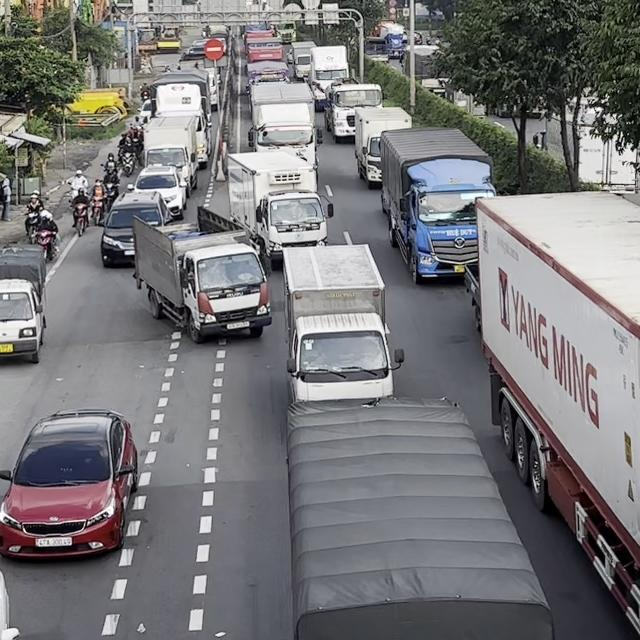car: (0, 407, 138, 561), (99, 191, 171, 267), (126, 163, 187, 219)
motorcycle: (32, 228, 60, 262), (70, 200, 89, 237), (23, 209, 42, 243), (89, 195, 106, 226), (119, 150, 134, 176)
truck: (464, 188, 639, 639), (280, 240, 404, 403), (379, 126, 498, 284), (130, 215, 272, 343), (226, 150, 334, 268), (250, 82, 321, 183), (0, 246, 46, 361), (353, 106, 412, 189), (143, 114, 198, 192), (324, 82, 383, 143), (305, 45, 349, 111)
